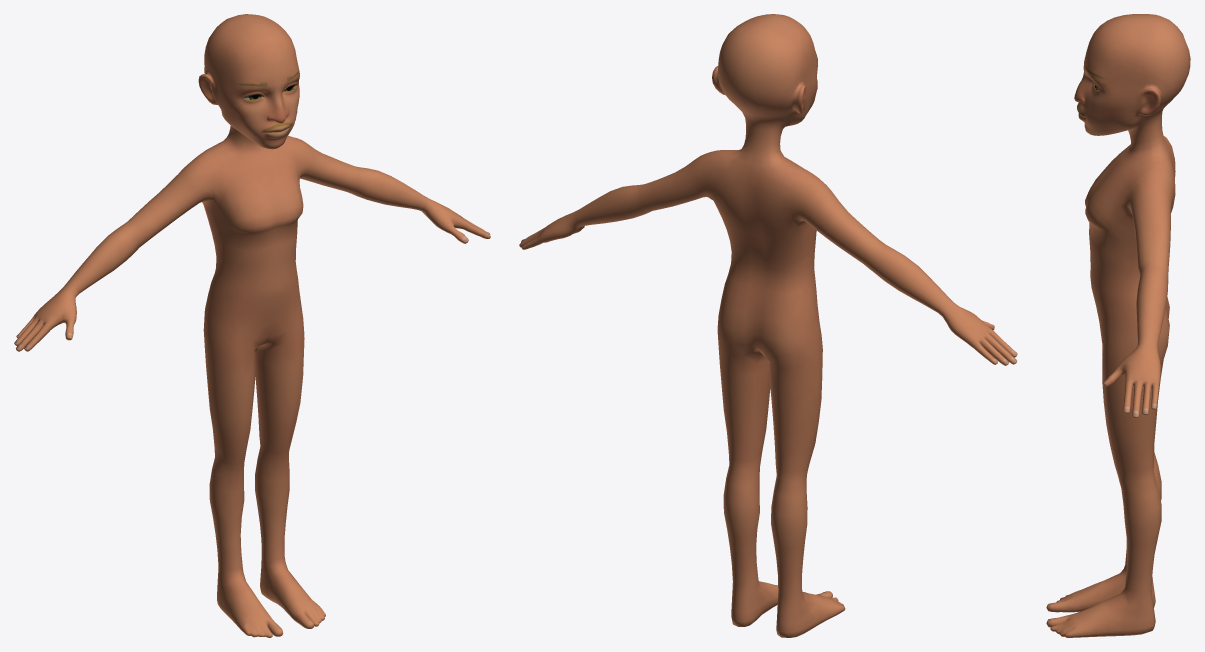
Rendered from frame_0050.glb.
The picture shows the model from 3 angles, left to right: view 1: azimuth 30°, elevation 25°; view 2: azimuth 150°, elevation 25°; view 3: azimuth 270°, elevation 25°; orthographic projection. The views are drawn at different scales.
Visible parts, largest first — view 1: frame_0050_head_geo; view 2: frame_0050_head_geo; view 3: frame_0050_head_geo.
Boxes of the visible parts, x1,y1,x2,y2 form: frame_0050_head_geo: (14,14,490,637); frame_0050_head_geo: (519,14,1017,637); frame_0050_head_geo: (1046,14,1190,637).
Size of the model in its own units: 1.28 by 1.5 by 0.3253.
Materials: 3 (3 with a texture image).
